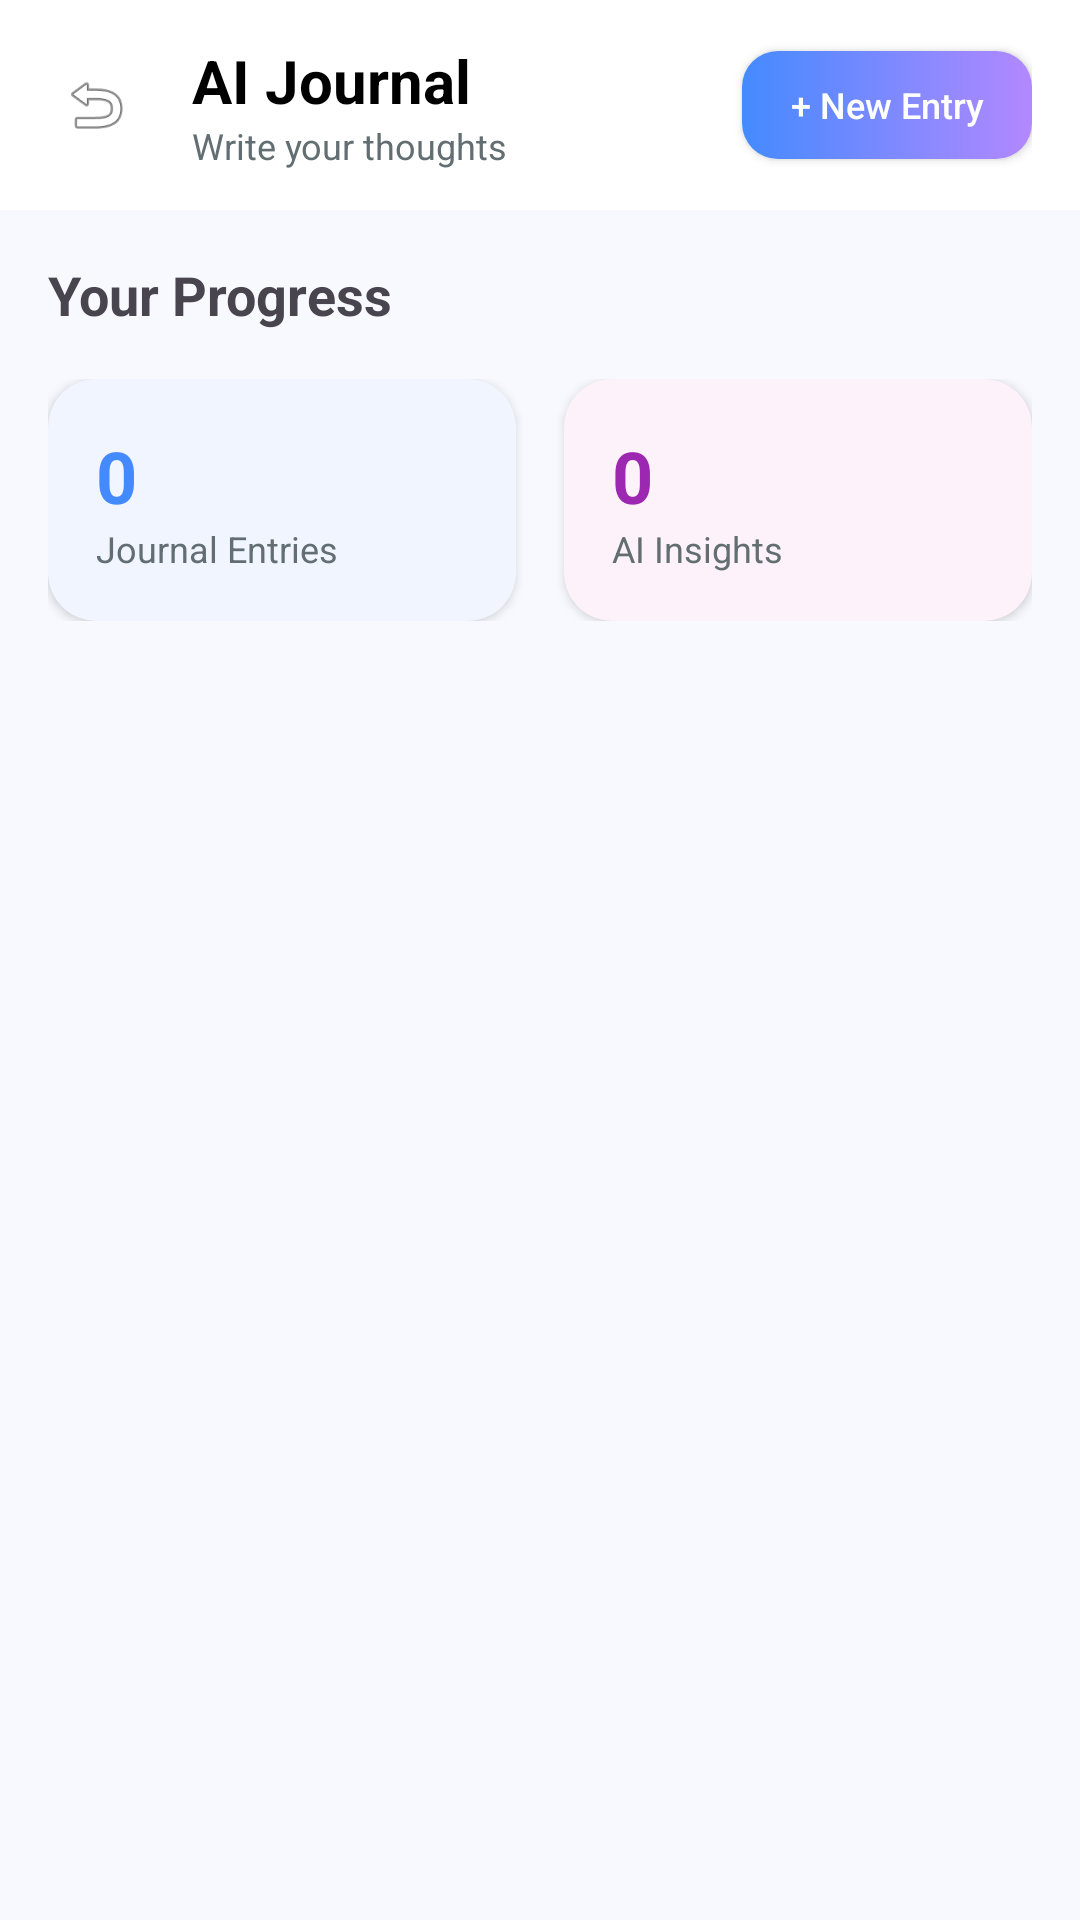

Where icons sit on this 1080px×1920px app screen, as (x1, y1, x2, y2):
revert: (71, 82, 123, 129)
